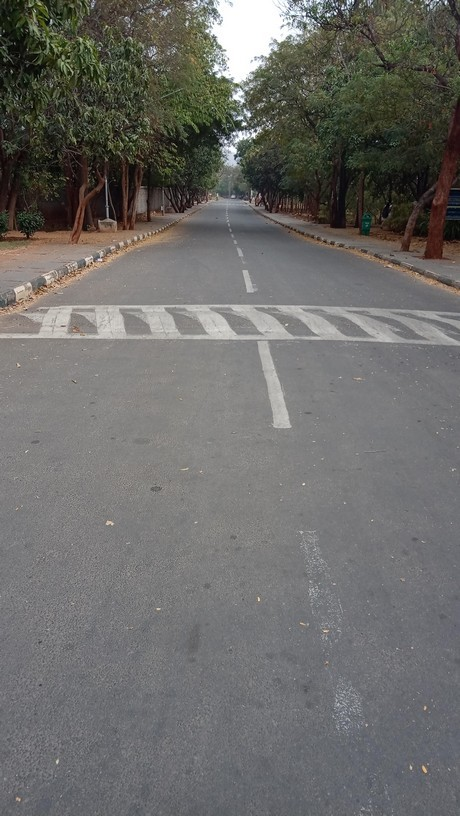bump: (1, 303, 459, 340)
